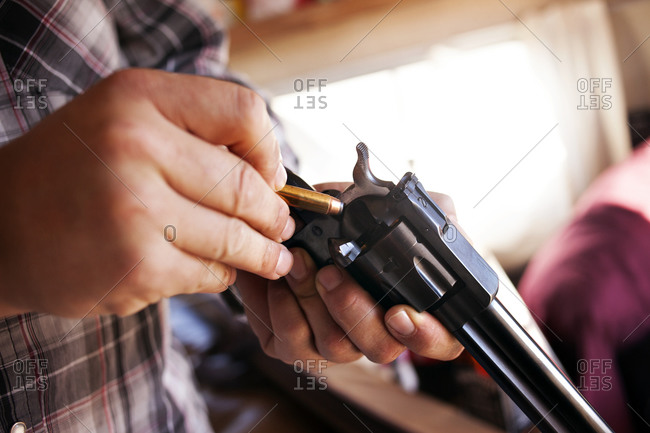gun: (188, 80, 625, 433)
